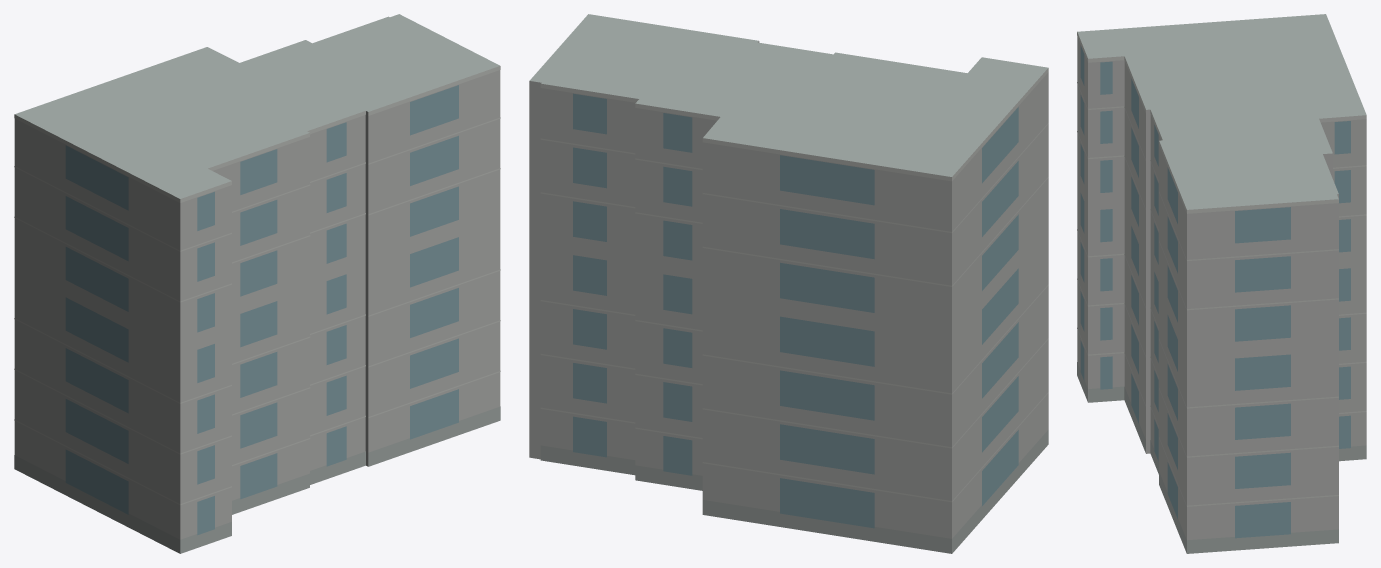
Rendered from survey-upis-33022125.glb.
3 renders of one model, left to right at view 1: azimuth 30°, elevation 25°; view 2: azimuth 150°, elevation 25°; view 3: azimuth 270°, elevation 25°, orthographic. The views are drawn at different scales.
Visible parts, largest first — view 1: survey-upis-33022125.tmp; view 2: survey-upis-33022125.tmp; view 3: survey-upis-33022125.tmp.
Boxes of the visible parts, <box> form: survey-upis-33022125.tmp: <box>14,14,500,553</box>; survey-upis-33022125.tmp: <box>529,14,1048,553</box>; survey-upis-33022125.tmp: <box>1077,14,1366,553</box>.
Bounding box in the file's own units: 26.05 × 21.3 × 16.27.
